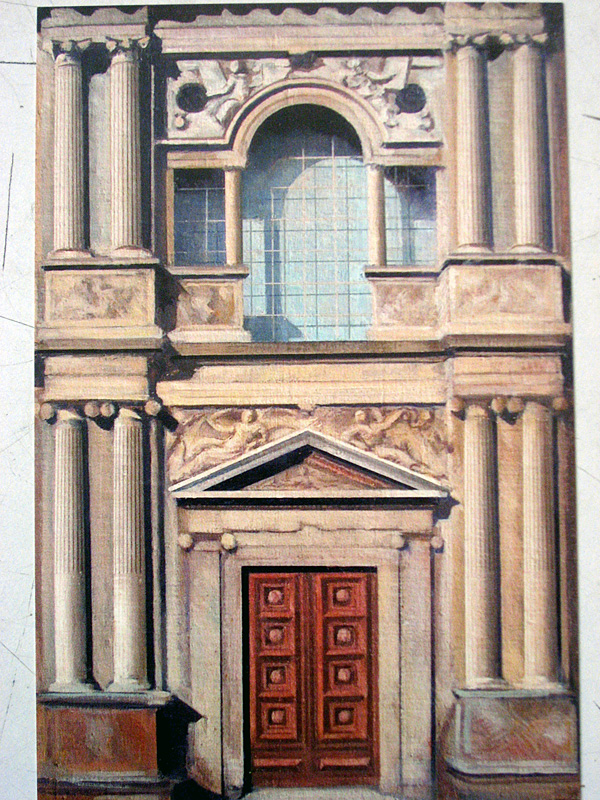fronton: (165, 424, 459, 511)
serliana: (148, 72, 443, 284)
vano-adintelado: (219, 526, 402, 798)
